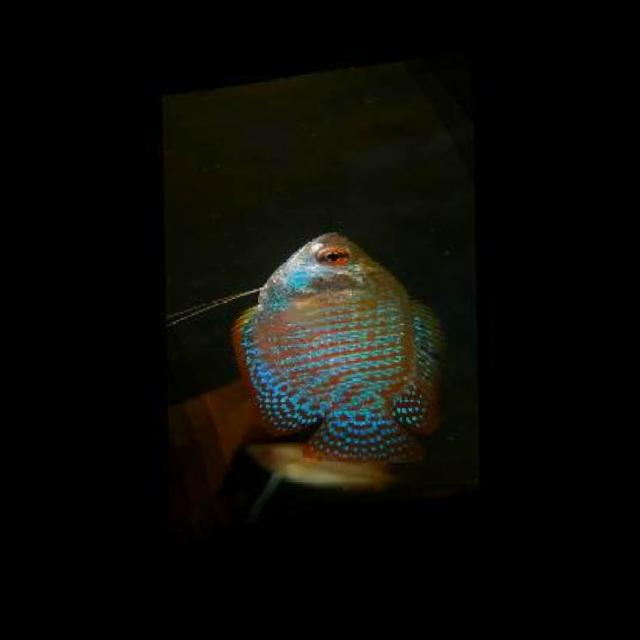Gourami: (228, 227, 446, 467)
